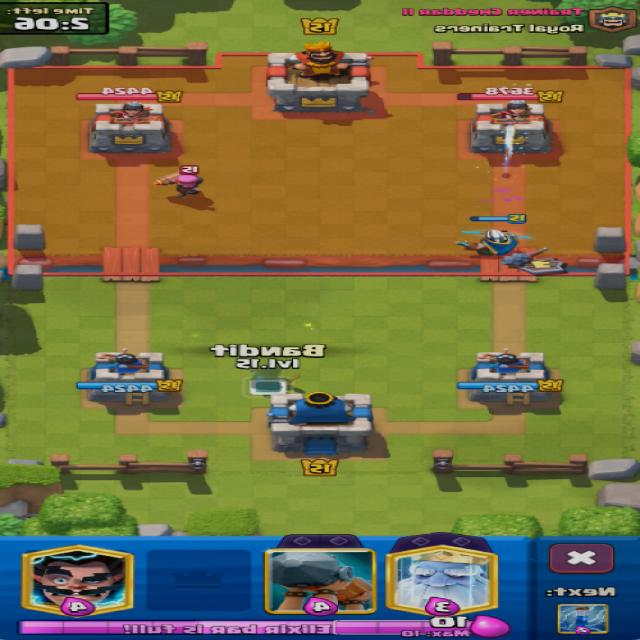Enemy-Firecracker: (152, 172, 204, 198)
Enemy-KingTower: (268, 42, 370, 113)
Enemy-PrincessTower: (467, 100, 553, 154), (90, 102, 172, 154)
